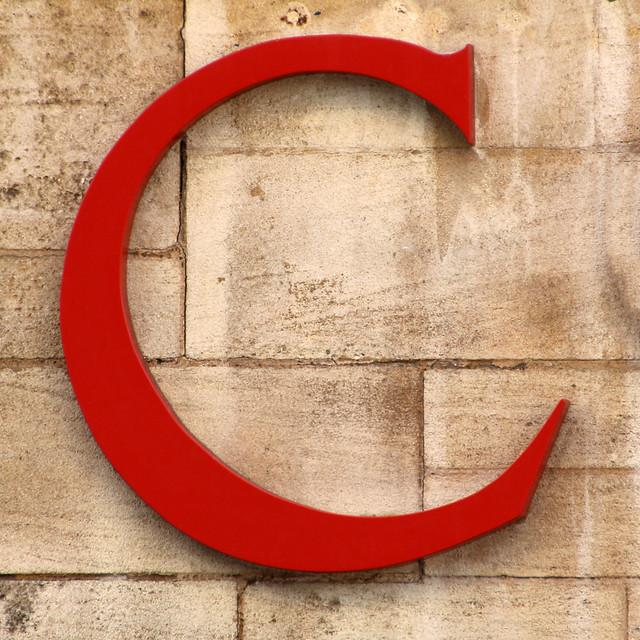C: (26, 18, 593, 620)
